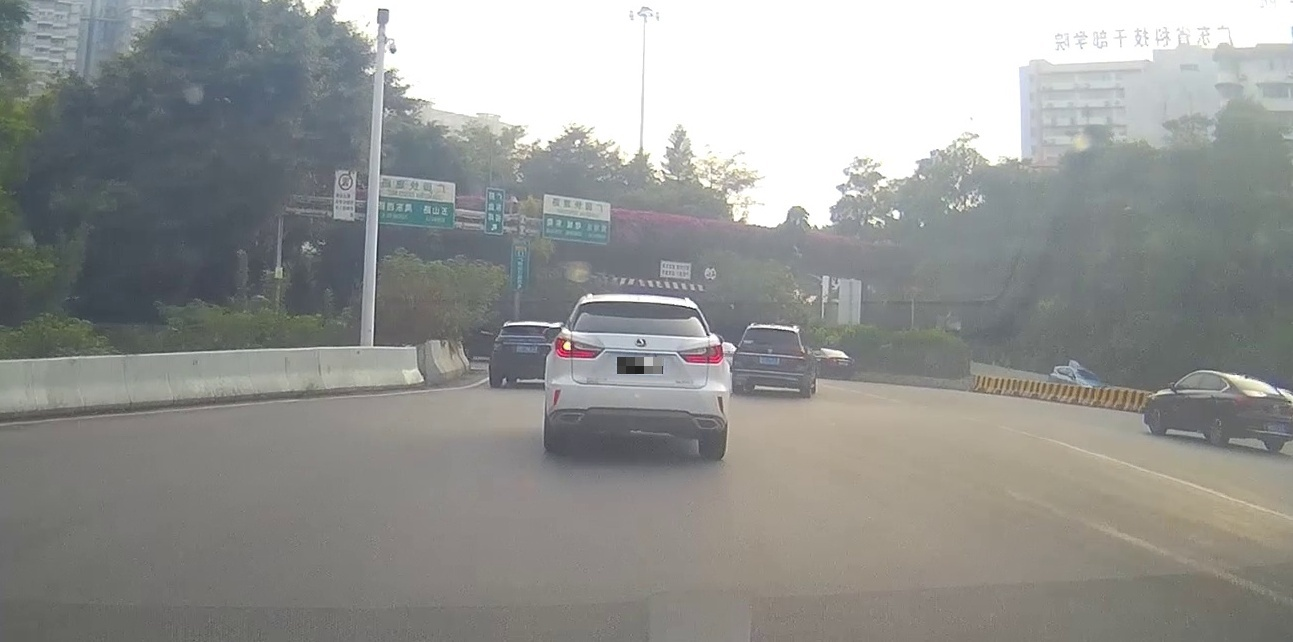L_light: (554, 337, 604, 359), (734, 354, 748, 361)
R_light: (677, 344, 724, 364), (789, 357, 805, 364)
T_light: (628, 301, 649, 306), (766, 328, 778, 333)
day-left: (544, 293, 727, 459)
day-no: (731, 326, 810, 397)
plate_1: (617, 357, 663, 374)
